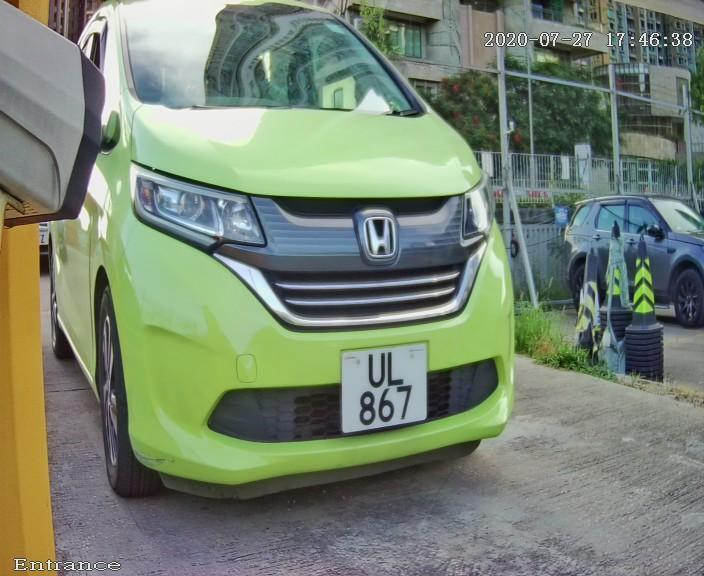privatecar: (35, 16, 554, 515)
